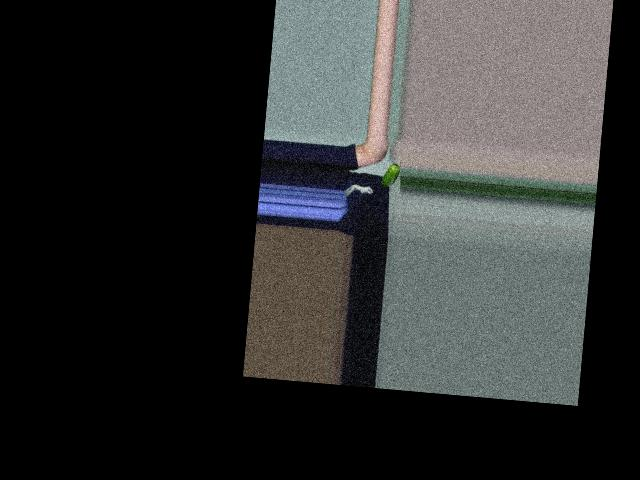cucumber: (381, 162, 401, 187)
